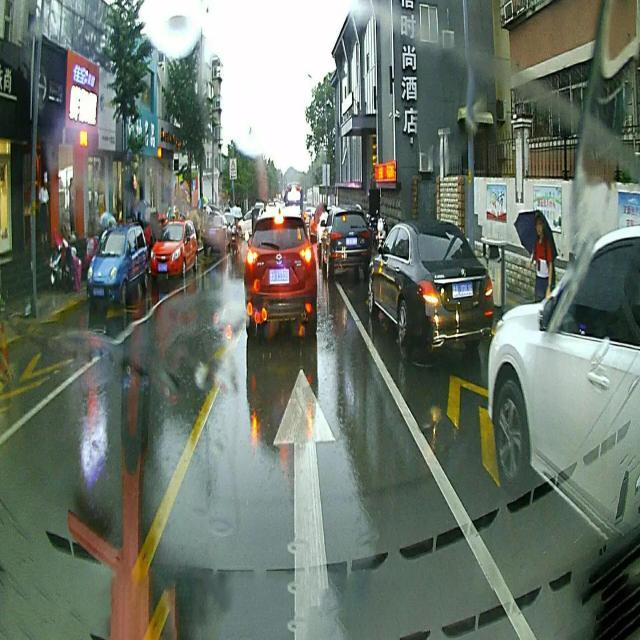car: (488, 220, 640, 542), (367, 224, 492, 358), (243, 206, 318, 347), (85, 220, 148, 308), (320, 204, 370, 288), (149, 217, 199, 279), (201, 212, 231, 250)
